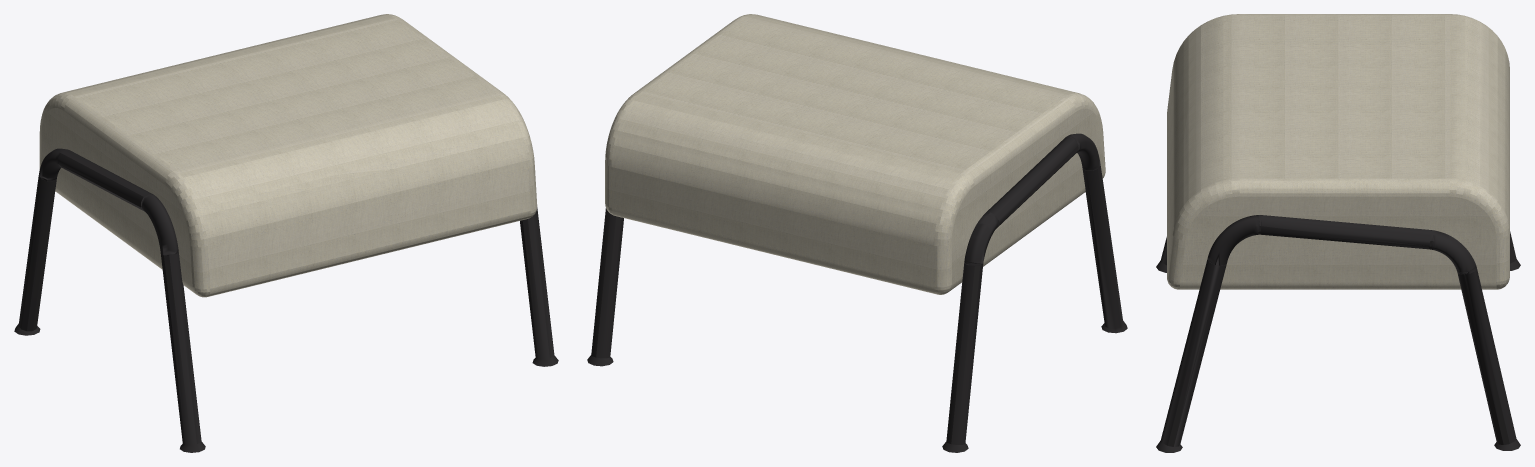
Rendered from puff.glb.
3 renders of one model, left to right at view 1: azimuth 30°, elevation 25°; view 2: azimuth 150°, elevation 25°; view 3: azimuth 270°, elevation 25°, orthographic. The views are drawn at different scales.
Parts seen in each view (by area): view 1: Group1, ESTRUTURA, ESTRUTURA1; view 2: Group1, ESTRUTURA, ESTRUTURA1; view 3: Group1, ESTRUTURA1, ESTRUTURA.
Boxes of the visible parts, <box> form: Group1: <box>39,14,537,297</box>; ESTRUTURA: <box>14,148,205,452</box>; ESTRUTURA1: <box>520,207,558,366</box>; Group1: <box>605,14,1105,294</box>; ESTRUTURA: <box>942,133,1127,452</box>; ESTRUTURA1: <box>587,208,623,366</box>; Group1: <box>1167,14,1509,289</box>; ESTRUTURA1: <box>1156,215,1520,452</box>; ESTRUTURA: <box>1156,231,1520,272</box>.
Size of the model in its own units: 0.6798 by 0.4276 by 0.5426.
Materials: 3 (2 with a texture image).
